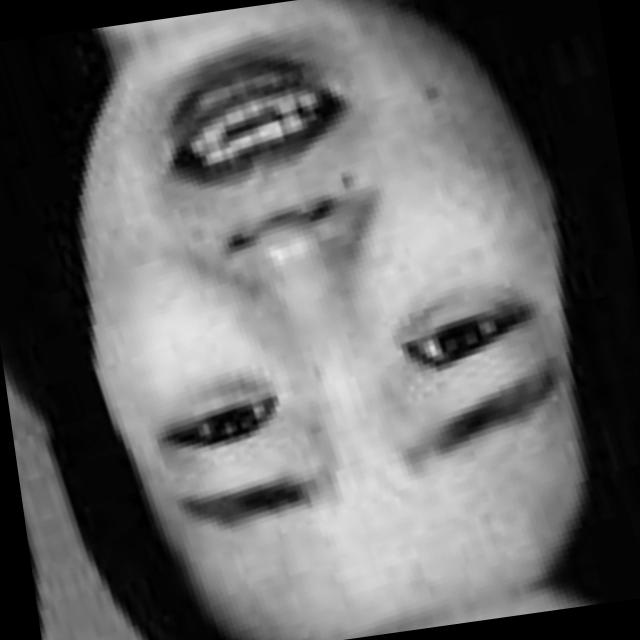fear: (43, 0, 578, 612)
